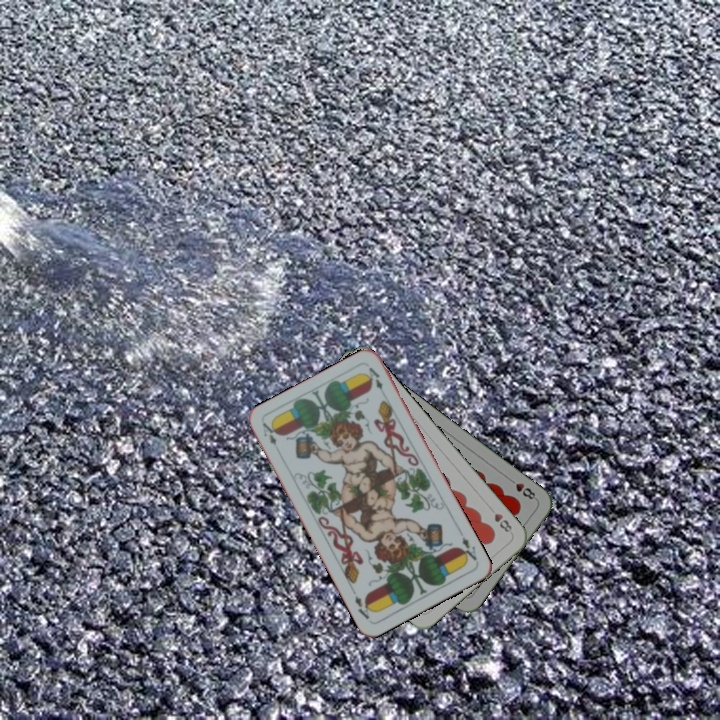EA: (456, 533, 479, 564), (258, 419, 280, 448)
H8: (504, 474, 540, 502), (485, 503, 514, 535)
